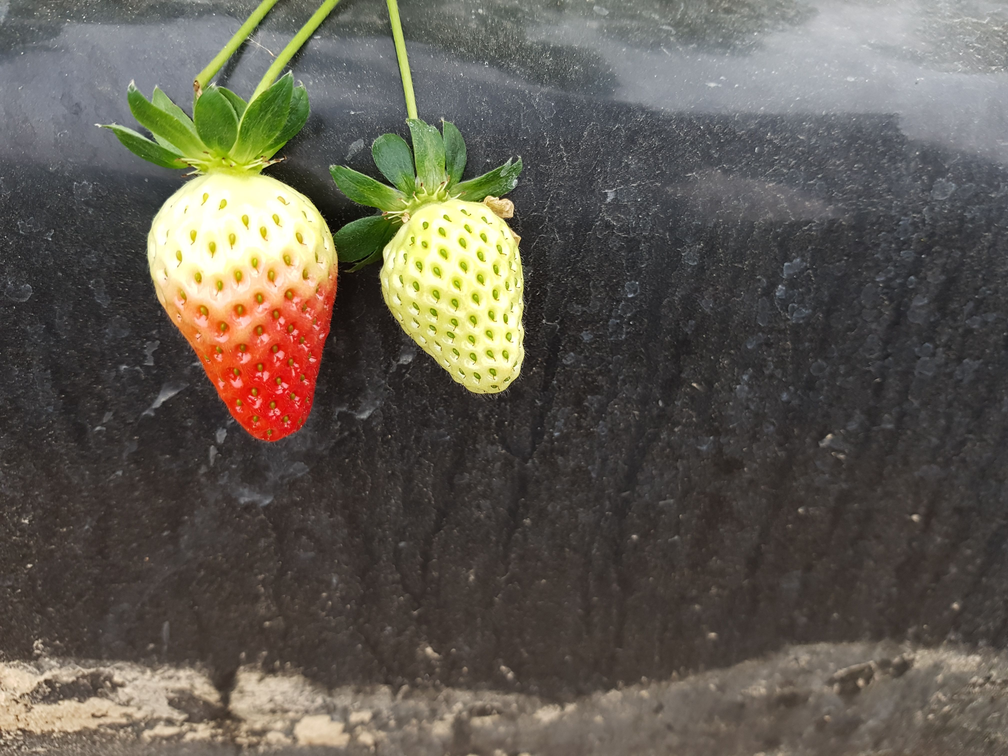peduncle: (252, 0, 339, 98), (386, 0, 417, 118)
strawberry: (147, 171, 335, 439), (381, 200, 523, 393)
